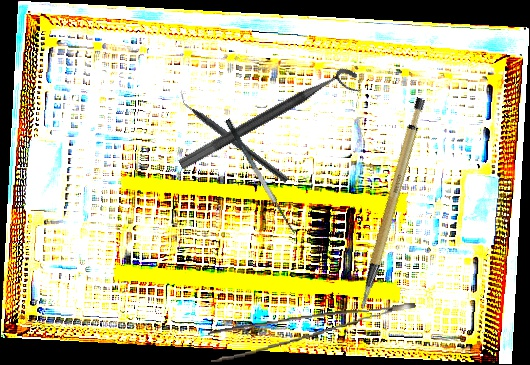Chopper: (172, 88, 295, 184)
Fixation Ring: (177, 62, 365, 186)
Scalpel Handle: (326, 95, 453, 310)
Spatula Surgical: (224, 113, 303, 236)
Tissue Forceps: (207, 302, 419, 363)
